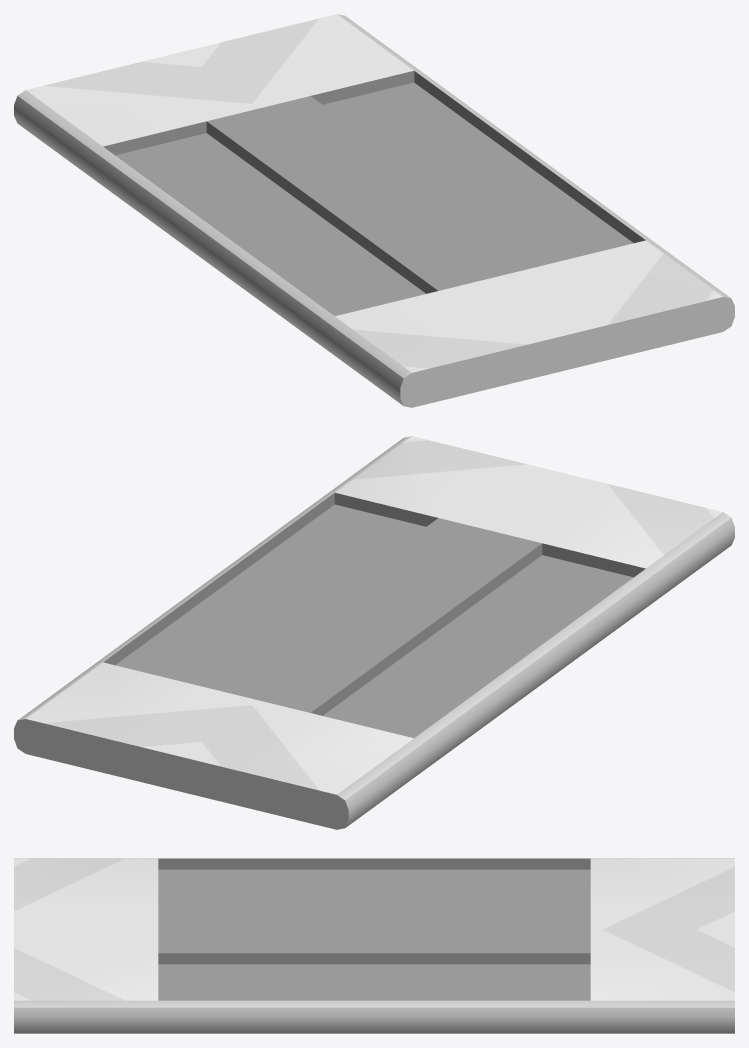
File: floor_bridge.fbx
3 views of the same model, one above another, from view 1: azimuth 30°, elevation 25°; view 2: azimuth 150°, elevation 25°; view 3: azimuth 270°, elevation 25° (orthographic). The views are drawn at different scales.
Visible parts, largest first — view 1: floor_bridge, liquidPlane; view 2: floor_bridge, liquidPlane; view 3: floor_bridge, liquidPlane.
Part boxes in pixels (x1,y1,x2,y2): floor_bridge: (14,14,734,407); liquidPlane: (115,82,633,315); floor_bridge: (14,436,734,829); liquidPlane: (115,504,633,737); floor_bridge: (14,858,734,1033); liquidPlane: (158,869,590,1000).
Size of the model in its own units: 500 by 50 by 1000.
Materials: 4 (1 with a texture image).
